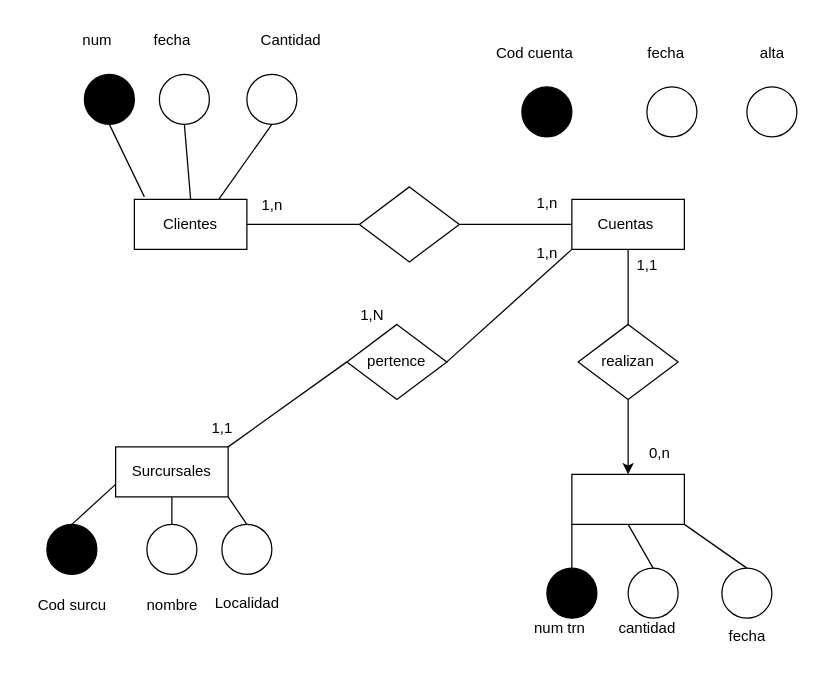
The diagram is 819 pixels wide and 676 high, and some of its shapes have lost their labels. The centre of each missing label's shape, as x and y in pixels:
"Tiene" belongs at pixel 408 224.
"Transaciones producidas" belongs at pixel 627 498.
